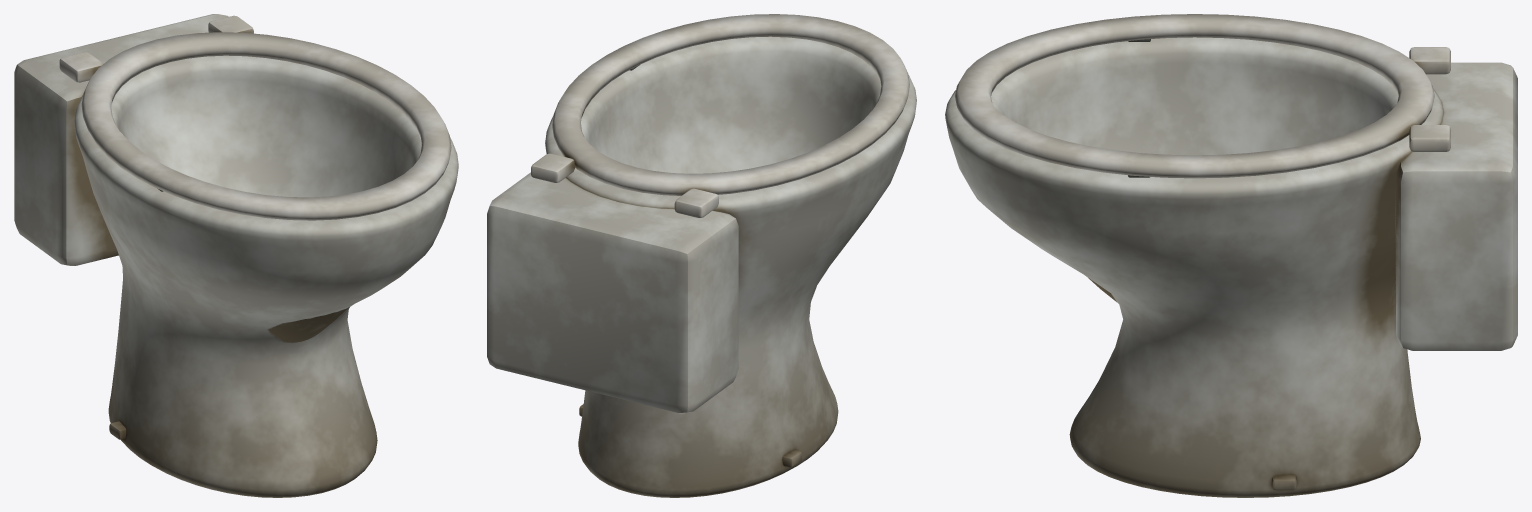
File: vaso_sanitario_sujo_realista.glb
3 renders of one model, left to right at view 1: azimuth 30°, elevation 25°; view 2: azimuth 150°, elevation 25°; view 3: azimuth 270°, elevation 25°, orthographic. The views are drawn at different scales.
Parts seen in each view (by area): view 1: Louca, Assento; view 2: Louca, Assento; view 3: Louca, Assento.
Part boxes in pixels (x1,y1,x2,y2): Louca: [14, 14, 458, 497]; Assento: [59, 15, 451, 220]; Louca: [487, 36, 916, 497]; Assento: [531, 14, 909, 218]; Louca: [945, 37, 1517, 497]; Assento: [955, 14, 1450, 178].
Size of the model in its own units: 0.41 by 0.425 by 0.62.
Materials: 1 (1 with a texture image).
